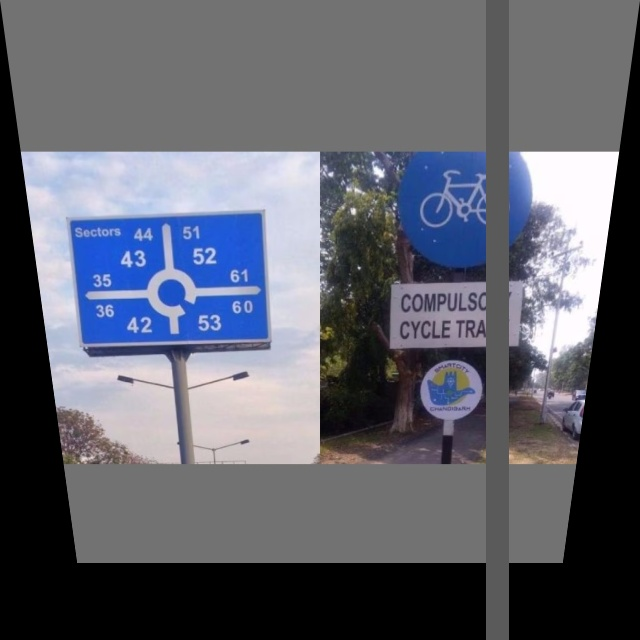Compulsory_Cycle_Track: (400, 151, 527, 267)
